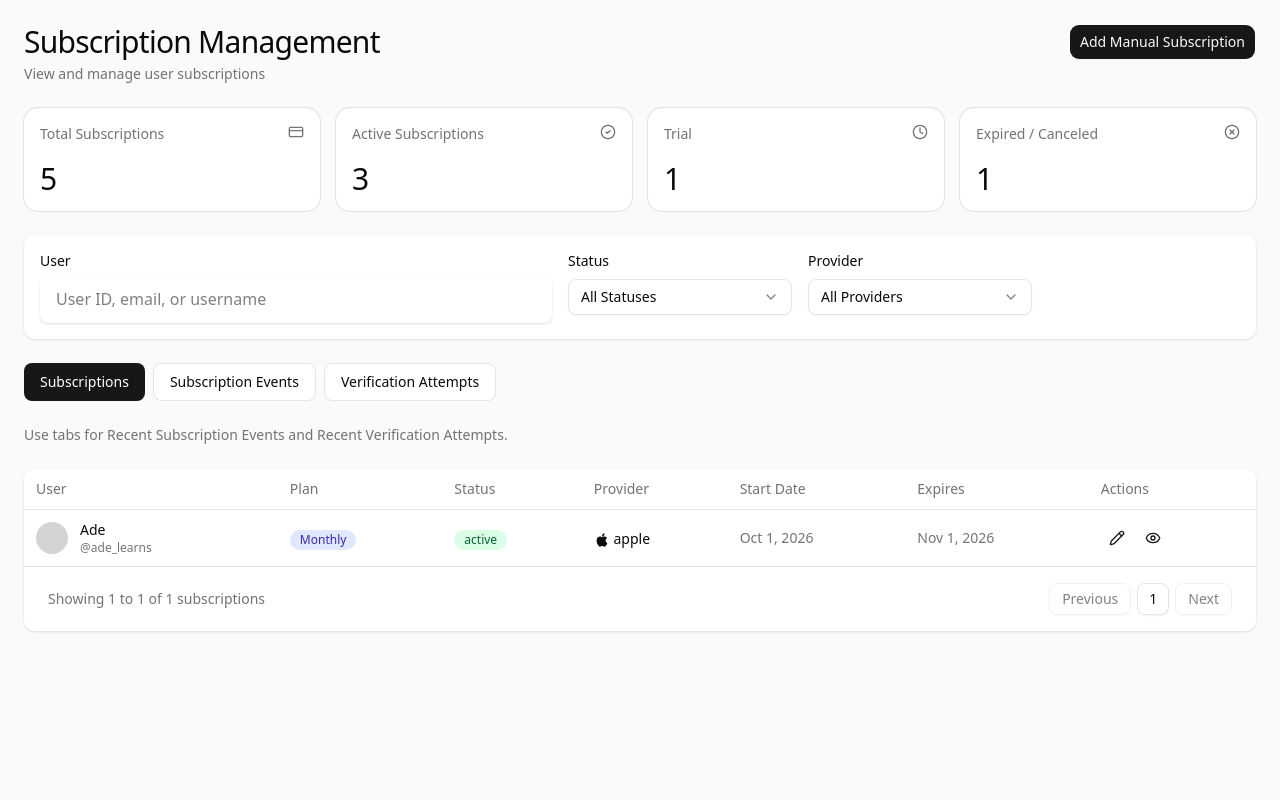
Test case: SubscriptionsPage › renders avatar/username, plan pill and icon actions for a subscription row
This screenshot has width=1280, height=800.
expect the text "Ade" is shown: met, box [80,520,106,539]
expect the text "@ade_learns" is shown: met, box [80,540,152,556]
What coordinates should you click on to do the following:
click the button named "Edit subscription"
I would click on:
 (1117, 538)
Its box is [1101,522,1133,554].
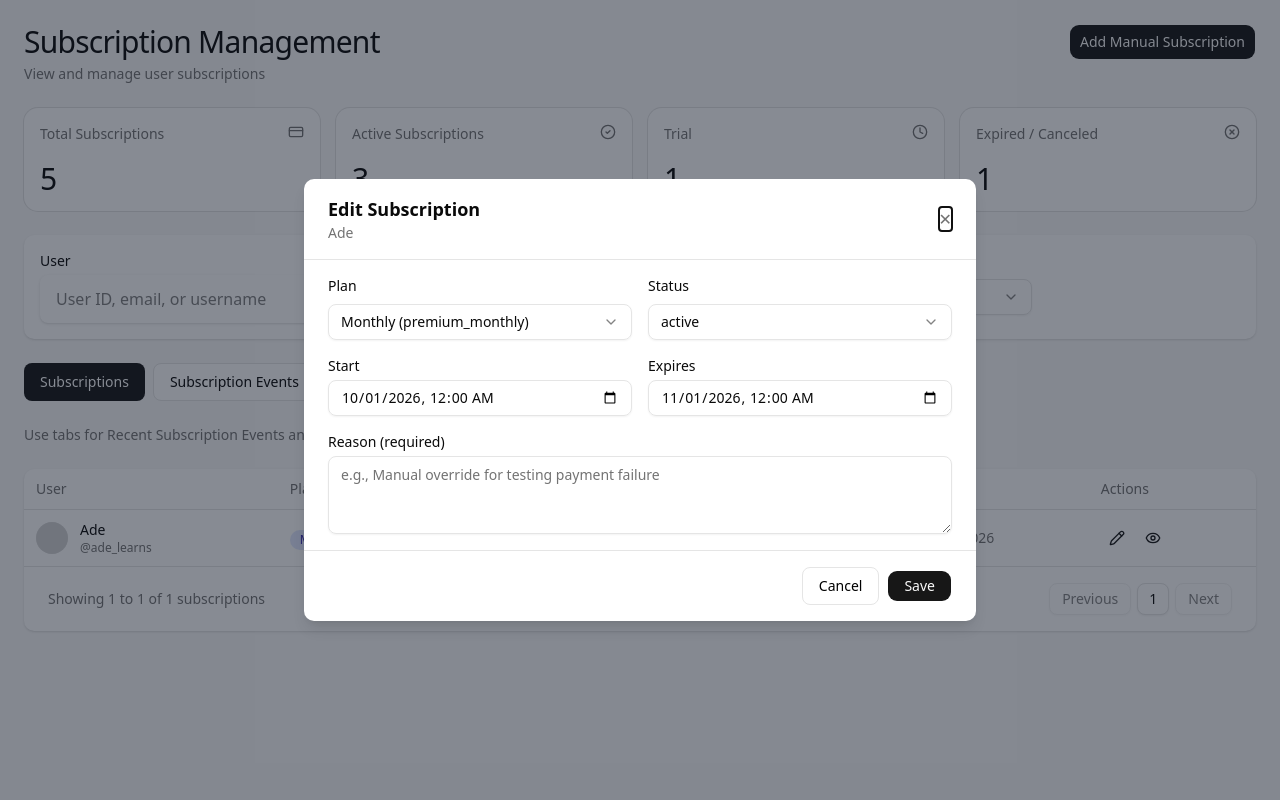
expect the heading "Edit Subscription" is shown: met, box [328,195,480,223]
